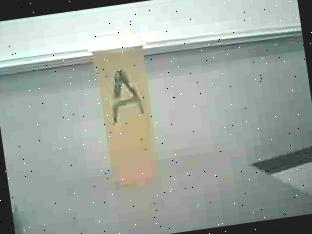Bottle A: (90, 33, 156, 184)
